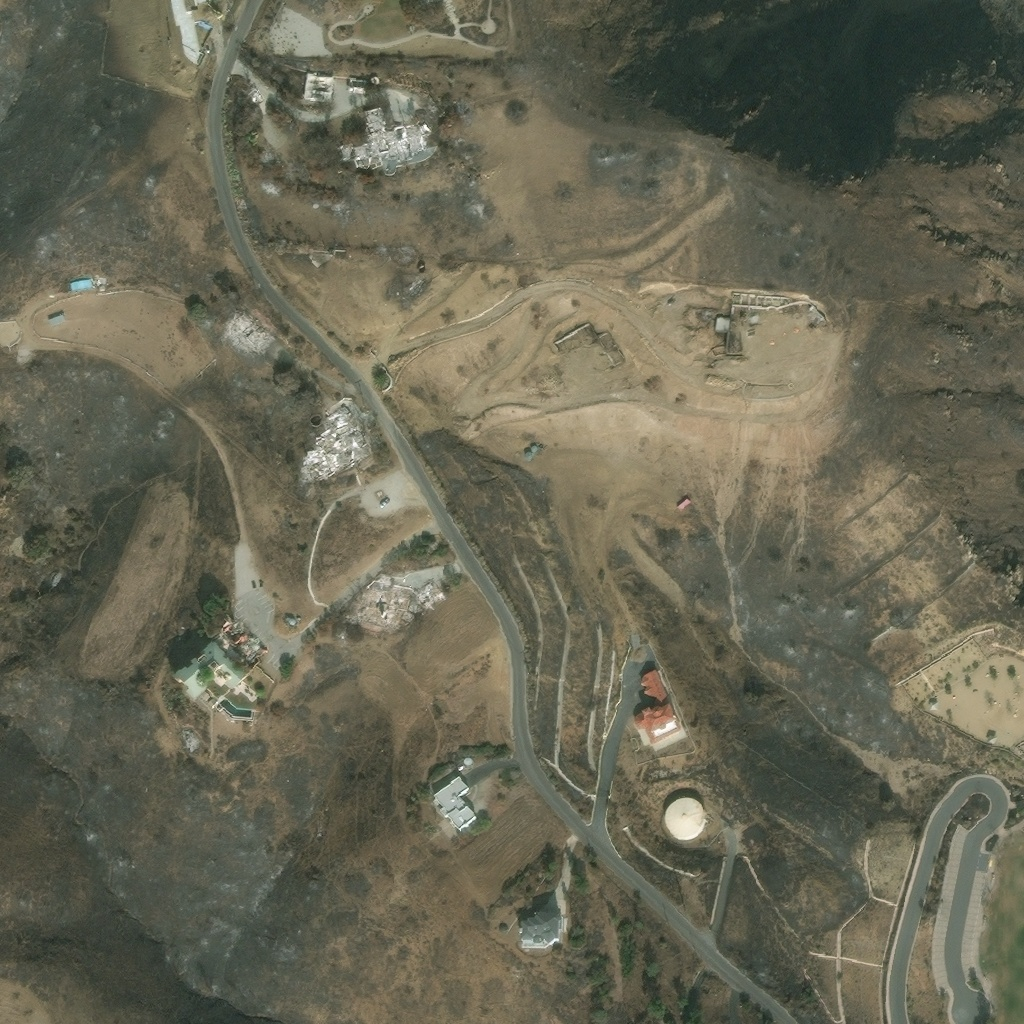0 no-damage: (632, 669, 680, 742), (431, 775, 478, 832), (664, 798, 704, 840), (519, 911, 560, 949), (714, 311, 732, 334), (69, 278, 91, 292), (46, 313, 66, 328), (93, 282, 106, 291), (523, 451, 533, 461), (928, 699, 937, 710), (530, 443, 539, 453), (987, 735, 995, 744)
1 minor-damage: (302, 72, 335, 103), (347, 77, 371, 95)
2 major-damage: (171, 616, 267, 701)
3 destroyed: (340, 105, 429, 170), (304, 434, 367, 480), (357, 586, 412, 638), (235, 67, 282, 114), (170, 0, 202, 67), (224, 307, 272, 351), (397, 279, 428, 307), (414, 579, 442, 607), (324, 407, 347, 429), (311, 426, 330, 451), (48, 571, 63, 587), (185, 131, 195, 140)
4 un-classified: (193, 0, 210, 4)
